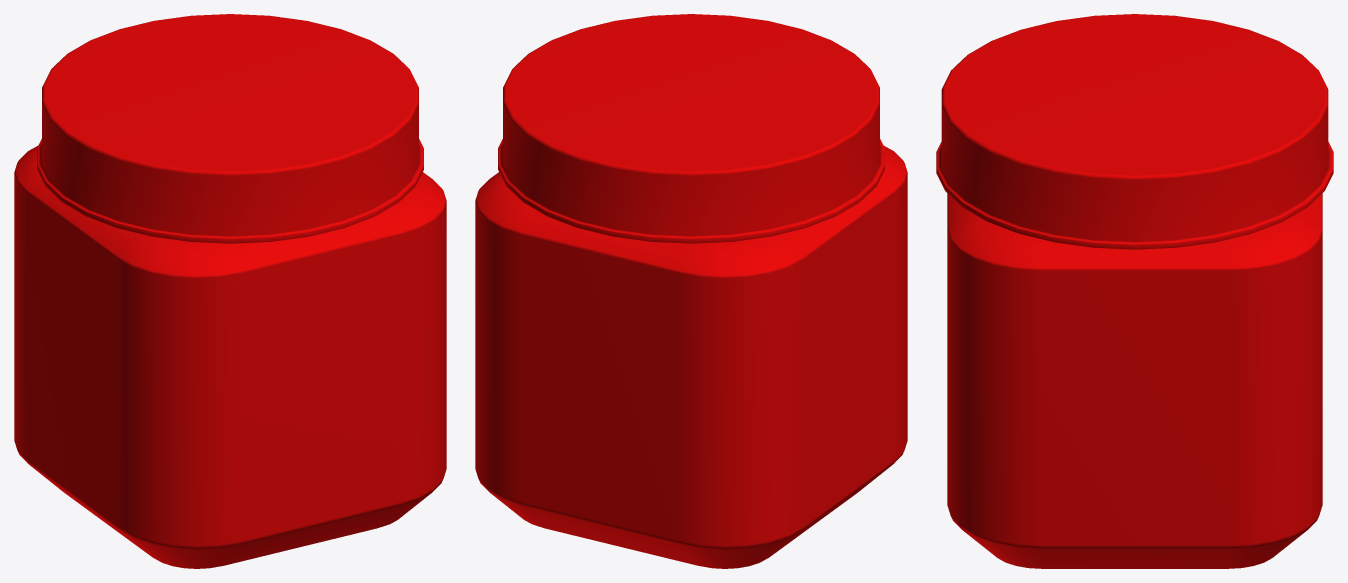
File: Package_10.fbx
3 views of the same model, side by side, from view 1: azimuth 30°, elevation 25°; view 2: azimuth 150°, elevation 25°; view 3: azimuth 270°, elevation 25° (orthographic). The views are drawn at different scales.
Parts seen in each view (by area): view 1: L12:pCylinder6; view 2: L12:pCylinder6; view 3: L12:pCylinder6.
Part boxes in pixels (box(x1,y1,x2,y2)): L12:pCylinder6: box(14, 14, 446, 568); L12:pCylinder6: box(475, 14, 907, 568); L12:pCylinder6: box(936, 14, 1333, 568).
Size of the model in its own units: 13.57 by 15.61 by 13.5.
